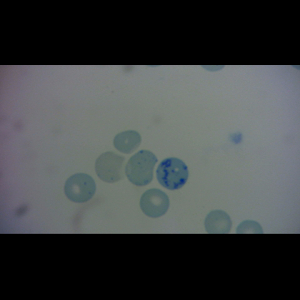aggregate reticulocyte: (154, 156, 191, 191)
erythrocyte: (138, 187, 172, 219), (203, 208, 234, 234), (112, 129, 142, 154)
punctate reticulocyte: (124, 149, 160, 188), (63, 172, 98, 204), (93, 151, 127, 183)
